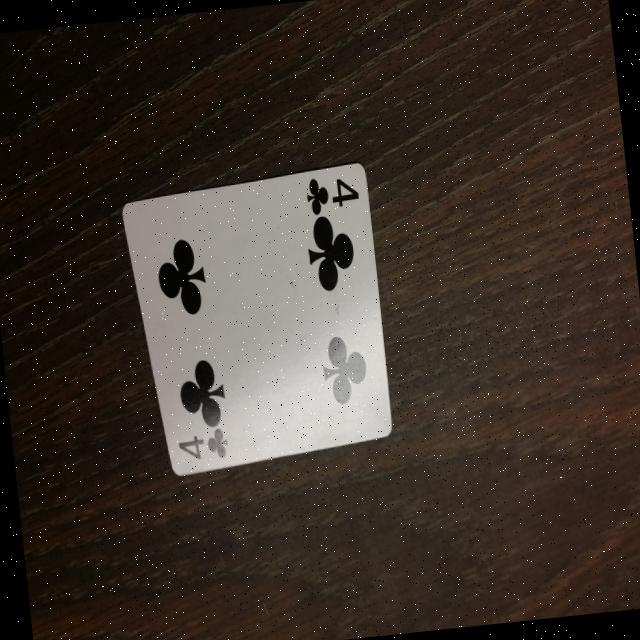4c: (168, 410, 242, 479), (294, 164, 369, 226)
